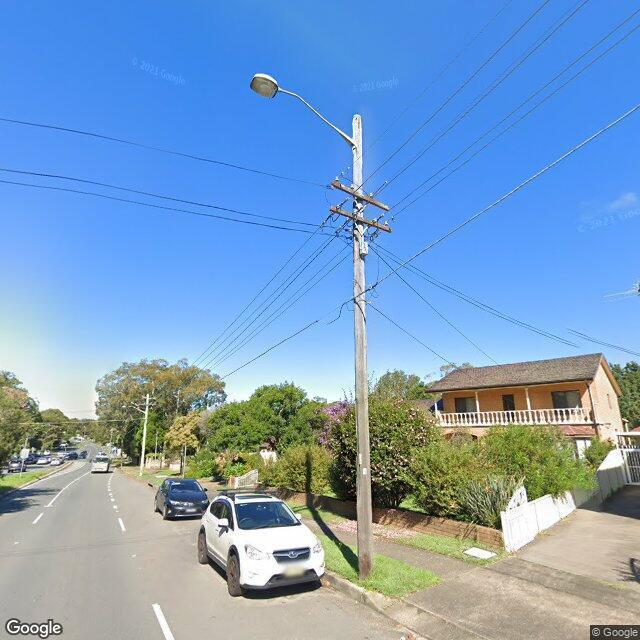crossarm: (332, 179, 391, 211), (329, 205, 392, 233)
streetlight: (251, 72, 357, 150)
timber-pole: (351, 115, 374, 583), (139, 394, 150, 476)
